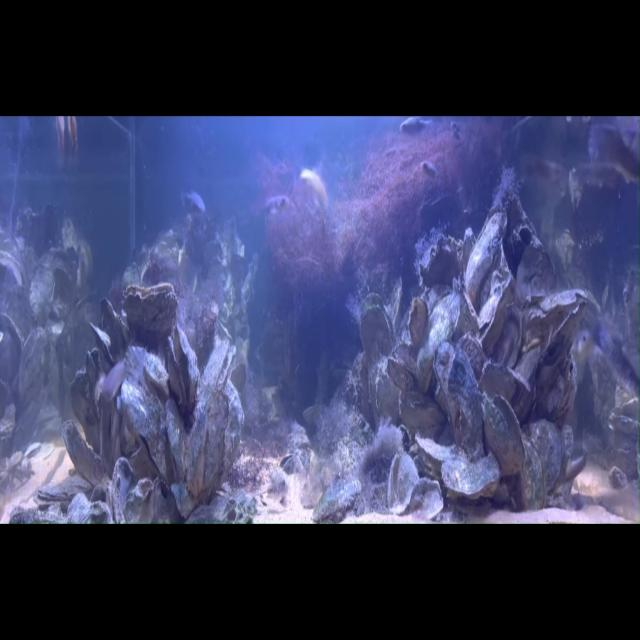Oyster- Indeterminate: (501, 168, 542, 271)
Oyster-Closed: (186, 392, 240, 503), (120, 385, 169, 484), (433, 343, 482, 432), (538, 290, 592, 370), (417, 289, 462, 379), (417, 225, 476, 287), (465, 212, 508, 295), (62, 418, 111, 489), (525, 421, 566, 503), (311, 469, 368, 525), (479, 360, 531, 420), (514, 242, 565, 303), (16, 331, 52, 409), (443, 452, 500, 501), (200, 336, 242, 399), (187, 487, 257, 524), (70, 367, 101, 449), (400, 392, 448, 444), (162, 402, 189, 487), (94, 298, 130, 361), (415, 436, 465, 481), (0, 313, 21, 420), (546, 353, 577, 425), (99, 359, 127, 435), (127, 345, 168, 395), (482, 283, 512, 351), (110, 457, 139, 526), (392, 343, 430, 394), (91, 316, 126, 370), (523, 438, 547, 512), (37, 475, 94, 505), (224, 383, 244, 467), (493, 304, 519, 368), (43, 249, 78, 296), (32, 266, 55, 327), (512, 346, 544, 388), (143, 248, 177, 286), (460, 285, 480, 338), (411, 296, 430, 350), (0, 402, 13, 468), (111, 432, 123, 479)
Oyster-Open: (388, 437, 446, 514), (479, 394, 528, 482), (124, 283, 177, 350), (166, 326, 199, 420), (117, 478, 182, 524), (360, 301, 392, 370), (0, 255, 24, 292), (229, 365, 245, 400)
